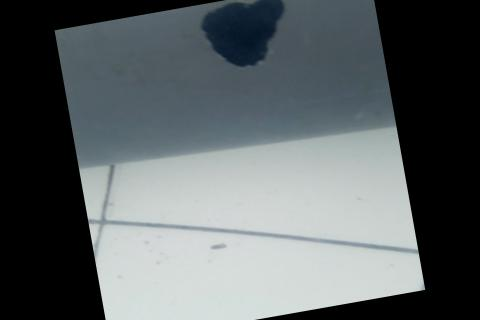kebocoran: (196, 0, 300, 75)
